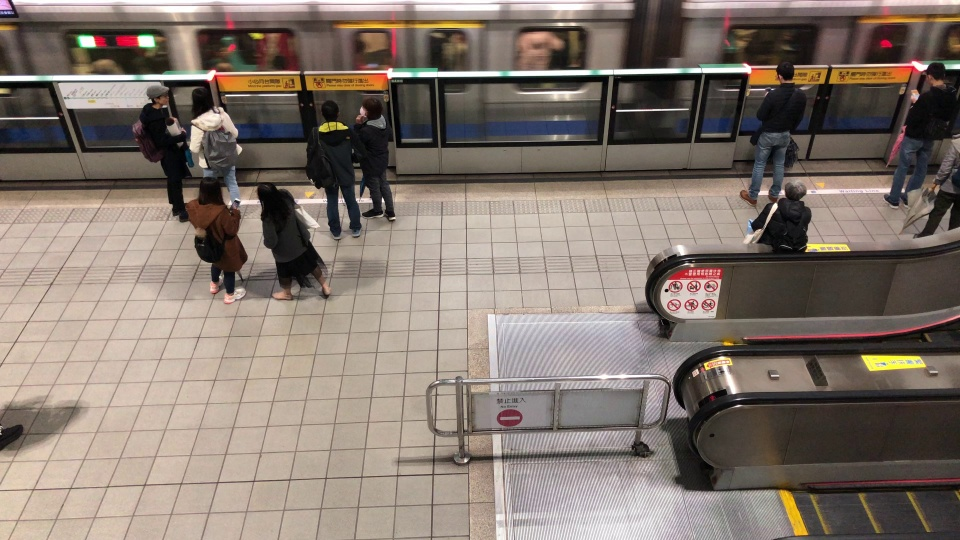person_head: (195, 176, 226, 210), (189, 87, 215, 118), (256, 181, 280, 213), (143, 83, 170, 109), (920, 62, 947, 87), (779, 180, 807, 204), (774, 59, 795, 86), (317, 100, 341, 123), (360, 97, 383, 121)
person_vbox: (881, 61, 959, 211), (246, 181, 333, 304), (738, 58, 809, 207), (123, 83, 195, 222), (298, 101, 366, 242), (176, 175, 250, 304), (181, 87, 246, 210), (345, 96, 402, 225), (898, 124, 960, 242), (735, 179, 813, 255)
